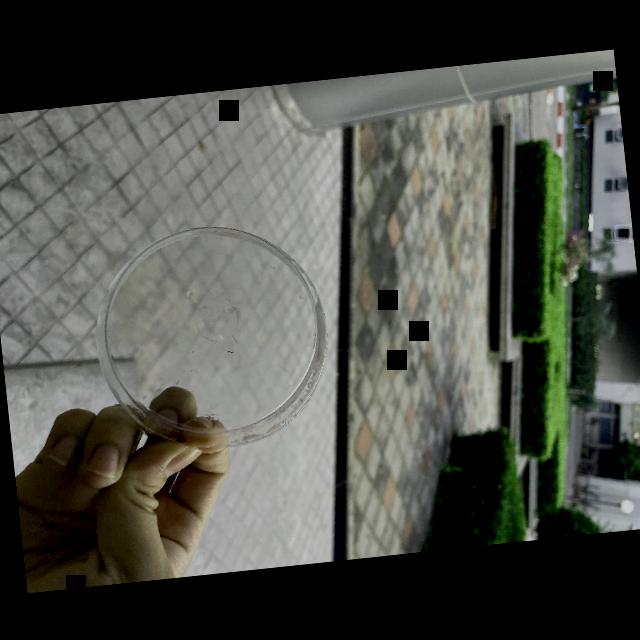plastic_cup_lid: (85, 202, 352, 460)
